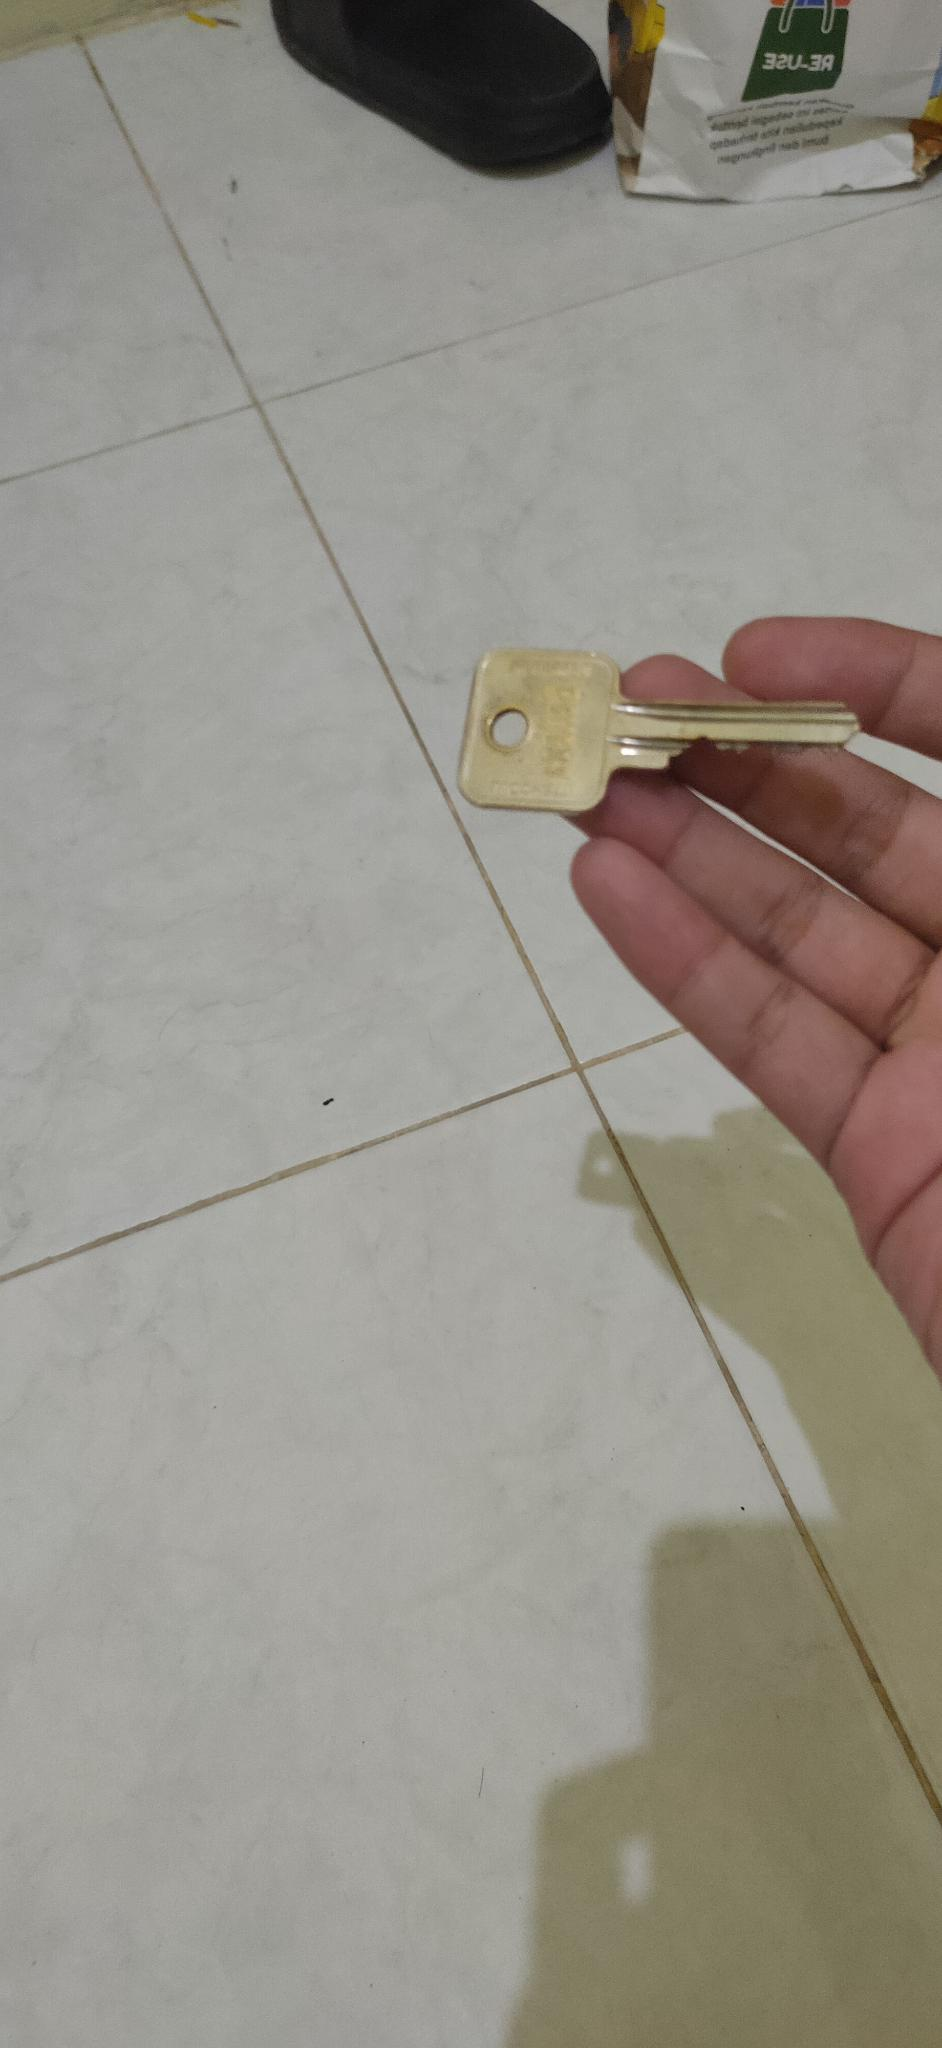keys: (442, 641, 864, 829)
